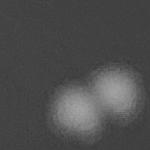colony: (45, 78, 115, 149), (86, 60, 150, 127)
